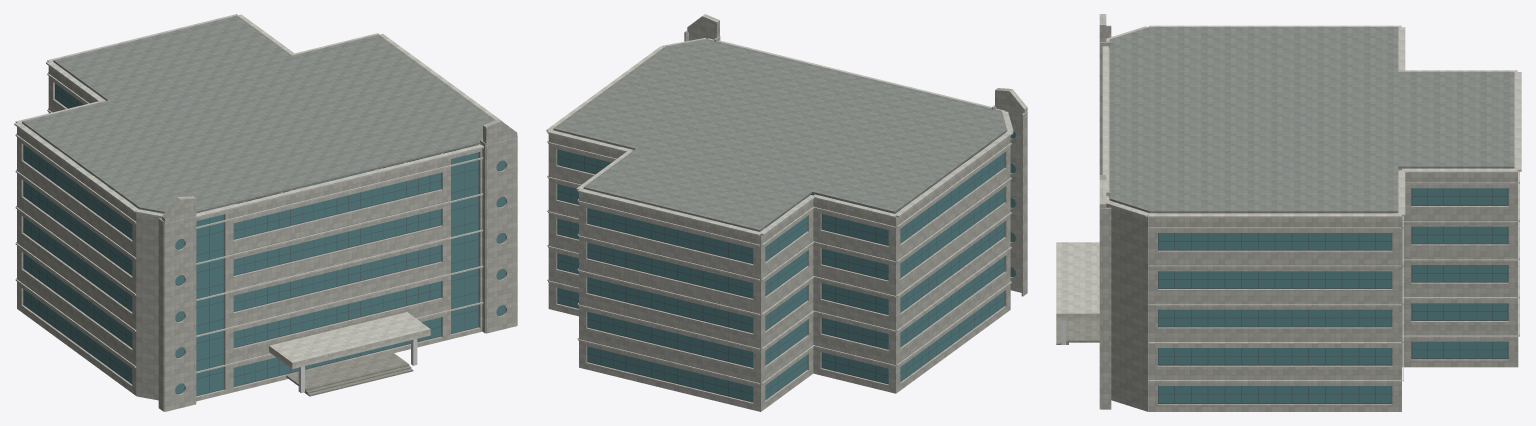
The picture shows the model from 3 angles, left to right: view 1: azimuth 30°, elevation 25°; view 2: azimuth 150°, elevation 25°; view 3: azimuth 270°, elevation 25°; orthographic projection. The views are drawn at different scales.
Parts seen in each view (by area): view 1: main__roof, main__stone, main__glass, main__trim, main__frame, main__threshold-main, main__stair-main; view 2: main__stone, main__roof, main__glass, main__trim, main__frame; view 3: main__roof, main__stone, main__glass, main__trim, main__frame, main__threshold-main.
Boxes of the visible parts, x1,y1,x2,y2 form: main__roof: (22, 15, 494, 213); main__stone: (17, 63, 517, 411); main__glass: (24, 75, 505, 395); main__trim: (14, 14, 501, 373); main__frame: (23, 84, 505, 396); main__threshold-main: (285, 350, 406, 387); main__stair-main: (304, 363, 413, 396); main__stone: (548, 14, 1027, 411); main__roof: (553, 39, 1006, 231); main__glass: (558, 130, 1015, 401); main__trim: (546, 38, 1013, 384); main__frame: (557, 149, 1004, 402); main__roof: (1109, 27, 1514, 212); main__stone: (1099, 14, 1518, 411); main__glass: (1158, 188, 1507, 402); main__trim: (1056, 25, 1521, 382); main__frame: (1158, 188, 1508, 403); main__threshold-main: (1069, 320, 1099, 342).
Bounding box in the file's own units: 42.66 × 23.1 × 44.03.
7 materials, 4 textured.
